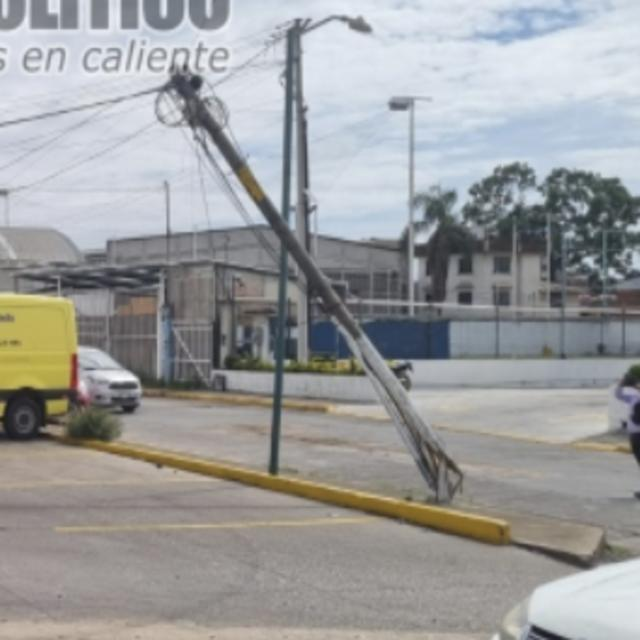Inclined Pole: (152, 60, 467, 505)
